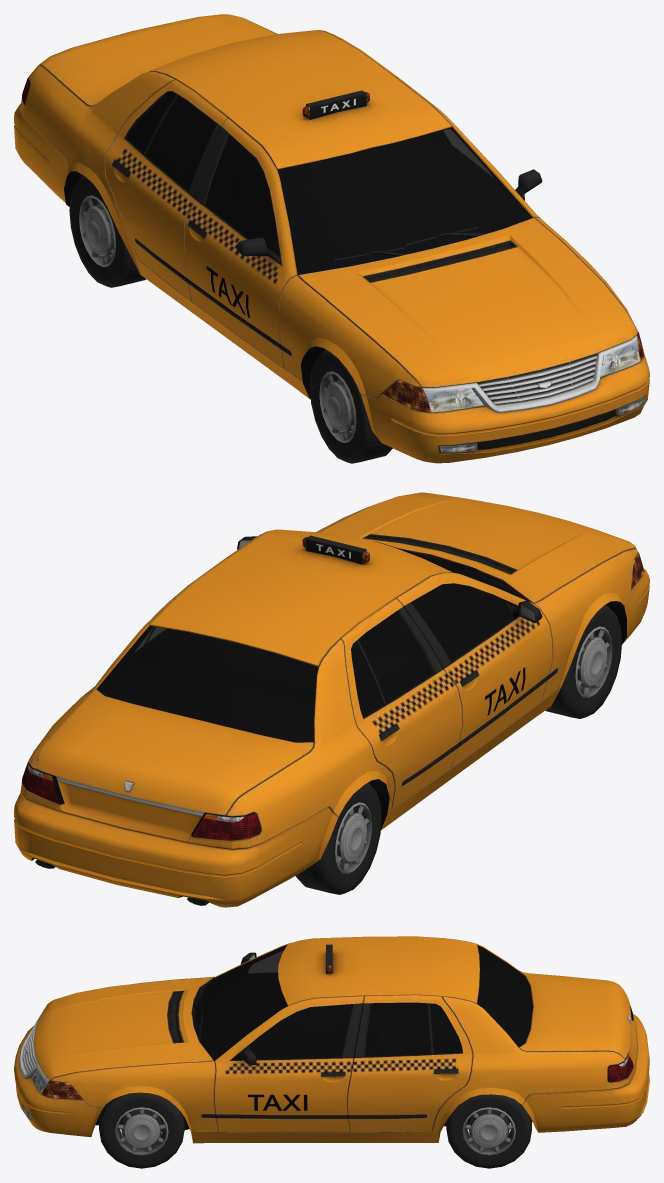
File: veh-taxi.glb
3 views of the same model, one above another, from view 1: azimuth 30°, elevation 25°; view 2: azimuth 150°, elevation 25°; view 3: azimuth 270°, elevation 25° (orthographic). The views are drawn at different scales.
Visible parts, largest first — view 1: taxi_taxi_0, taxi_taxi_glass_0, taxi_taxi_optics_0; view 2: taxi_taxi_0, taxi_taxi_glass_0, taxi_taxi_optics_0; view 3: taxi_taxi_0, taxi_taxi_glass_0, taxi_taxi_optics_0, taxi_taxi_decal_0.
Boxes of the visible parts, left/top/right/bottom form: taxi_taxi_0: left=14, top=14, right=649, bottom=463; taxi_taxi_glass_0: left=126, top=92, right=532, bottom=275; taxi_taxi_optics_0: left=21, top=78, right=645, bottom=453; taxi_taxi_0: left=14, top=492, right=649, bottom=907; taxi_taxi_glass_0: left=96, top=541, right=524, bottom=742; taxi_taxi_optics_0: left=21, top=537, right=643, bottom=840; taxi_taxi_0: left=14, top=936, right=649, bottom=1168; taxi_taxi_glass_0: left=194, top=945, right=533, bottom=1060; taxi_taxi_optics_0: left=22, top=965, right=633, bottom=1118; taxi_taxi_decal_0: left=248, top=1094, right=307, bottom=1110.
Size of the model in its own units: 2 by 1.5 by 5.09.
4 materials, 4 textured.
